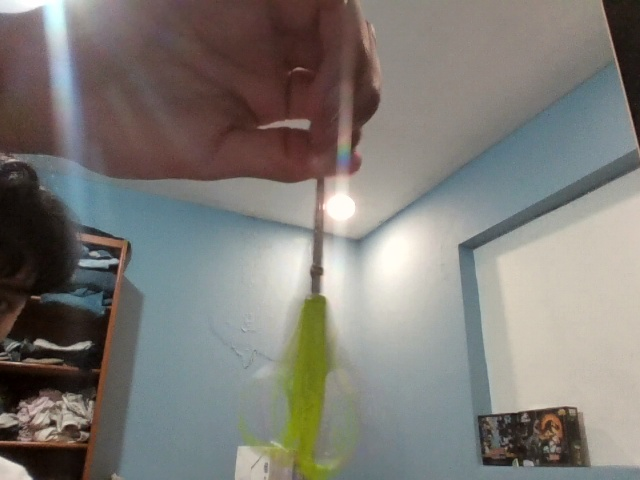tijeras: (269, 0, 360, 480)
